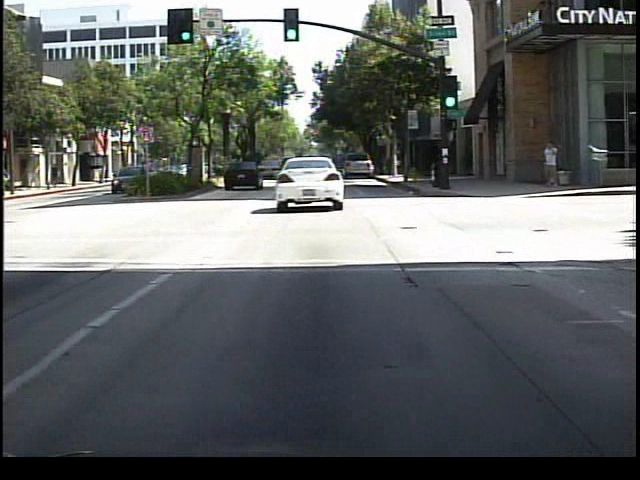person: (539, 139, 563, 193), (49, 161, 64, 195)
